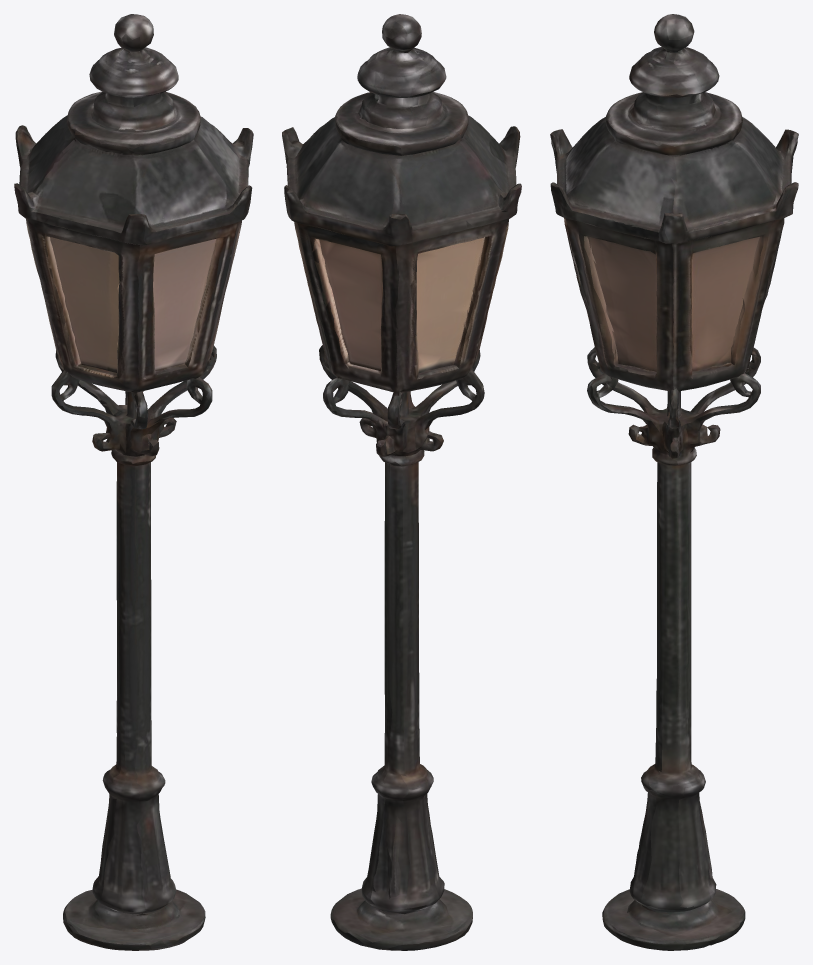
Rendered from model_glb.glb.
3 renders of one model, left to right at view 1: azimuth 30°, elevation 25°; view 2: azimuth 150°, elevation 25°; view 3: azimuth 270°, elevation 25°, orthographic.
Visible parts, largest first — view 1: geometry_0; view 2: geometry_0; view 3: geometry_0.
Boxes of the visible parts, left/top/right/bottom form: geometry_0: left=14, top=14, right=253, bottom=950; geometry_0: left=282, top=14, right=521, bottom=950; geometry_0: left=550, top=14, right=798, bottom=950.
Bounding box in the file's own units: 0.489 × 1.8 × 0.4484.
Materials: 1 (1 with a texture image).
